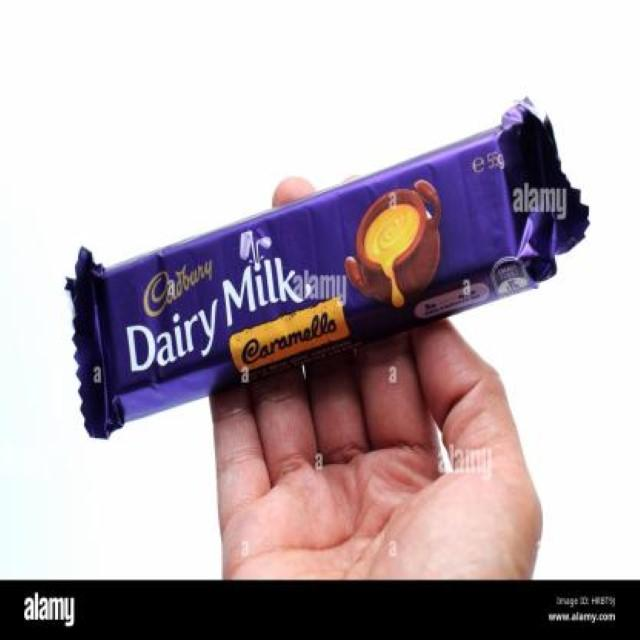cadbury_chocolate: (73, 105, 563, 450)
